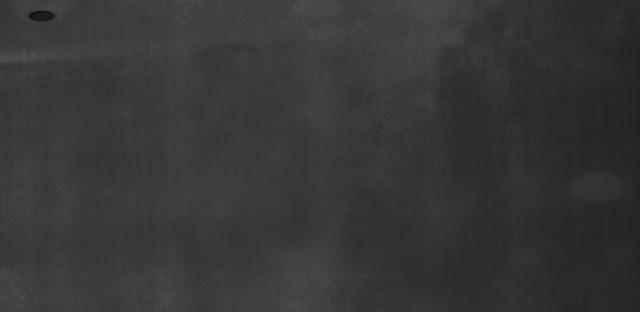punching_hole: (25, 10, 55, 22)
